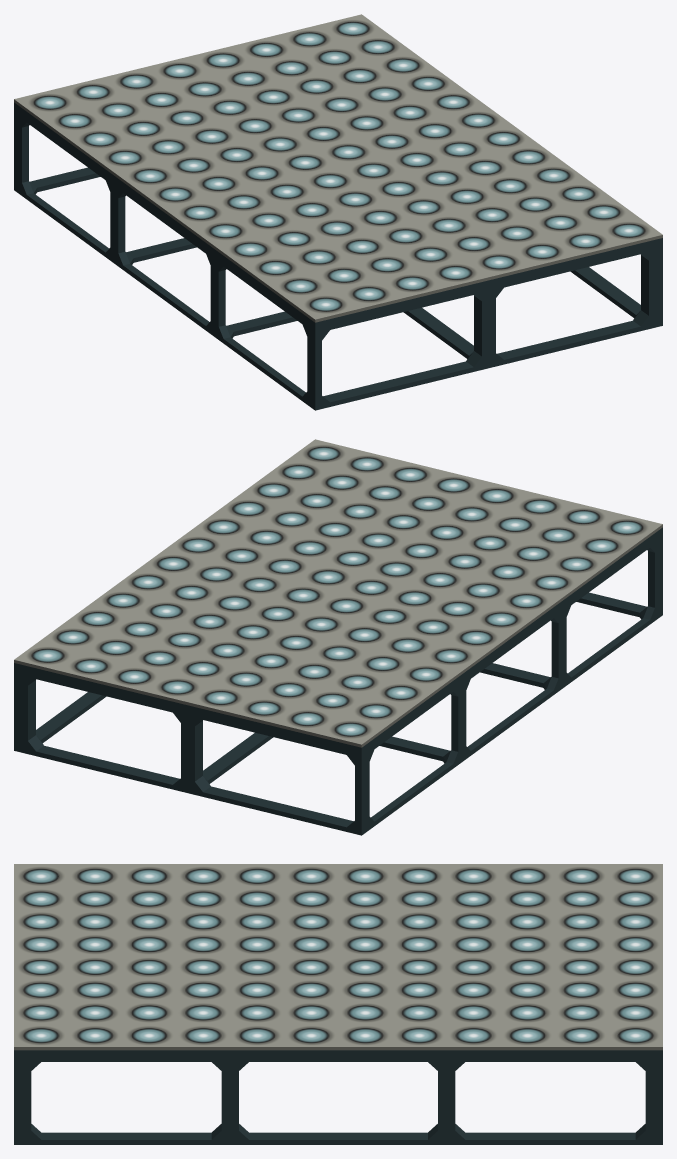
Rendered from CA_119_cosmodrome_floor_holes_var2.glb.
The picture shows the model from 3 angles, top to bottom: view 1: azimuth 30°, elevation 25°; view 2: azimuth 150°, elevation 25°; view 3: azimuth 270°, elevation 25°; orthographic projection. The views are drawn at different scales.
Visible parts, largest first — view 1: floor, metallic_structure; view 2: floor, metallic_structure; view 3: floor, metallic_structure.
Part boxes in pixels (bbox=[...]): floor: bbox=[14, 14, 662, 322]; metallic_structure: bbox=[14, 102, 662, 410]; floor: bbox=[14, 439, 662, 747]; metallic_structure: bbox=[14, 527, 662, 835]; floor: bbox=[14, 864, 662, 1050]; metallic_structure: bbox=[14, 1050, 662, 1144].
Size of the model in its own units: 1.5 by 0.375 by 2.25.
3 materials, 1 textured.
